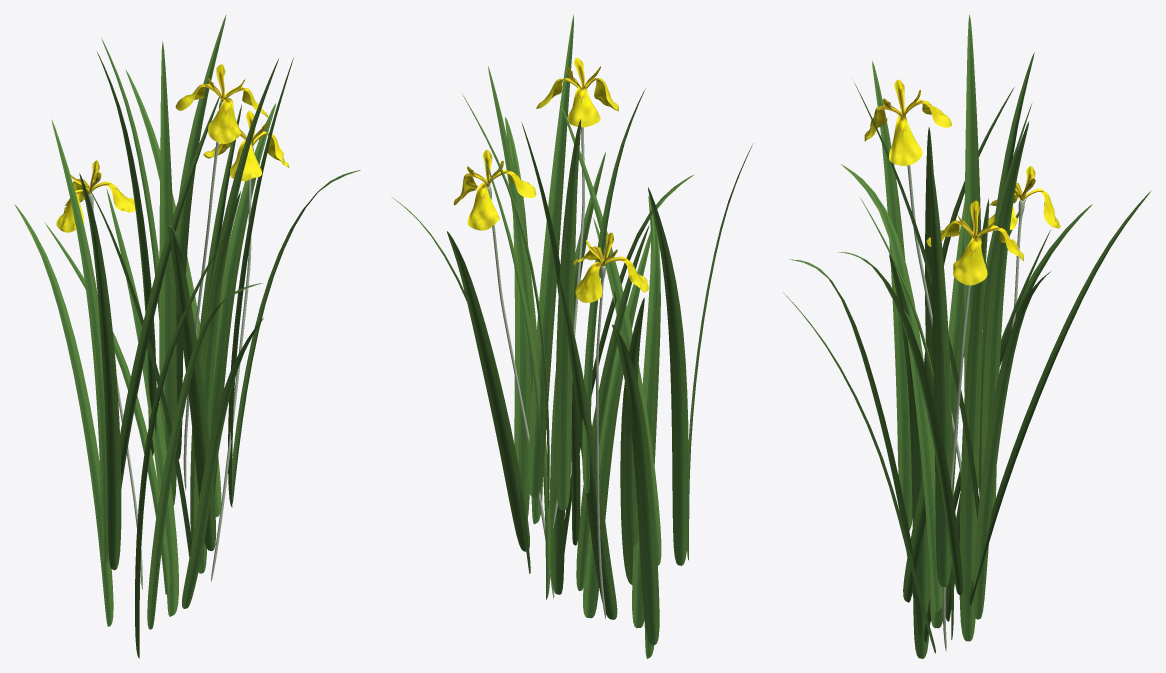
3 views of the same model, side by side, from view 1: azimuth 30°, elevation 25°; view 2: azimuth 150°, elevation 25°; view 3: azimuth 270°, elevation 25° (orthographic). The views are drawn at different scales.
Parts seen in each view (by area): view 1: Flag_Iris.Shape; view 2: Flag_Iris.Shape; view 3: Flag_Iris.Shape.
Boxes of the visible parts, x1,y1,x2,y2 form: Flag_Iris.Shape: (14, 15, 360, 658); Flag_Iris.Shape: (392, 14, 753, 658); Flag_Iris.Shape: (783, 15, 1151, 658).
Bounding box in the file's own units: 0.3803 × 0.7726 × 0.4068.
3 materials, 2 textured.
